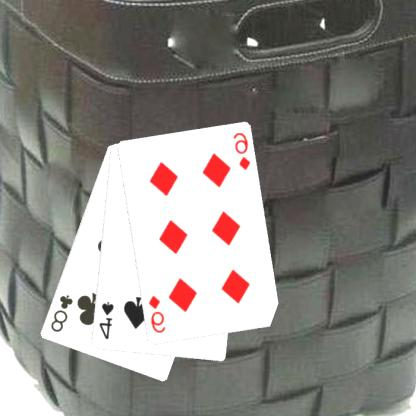4S: (97, 299, 116, 341)
6D: (147, 293, 168, 335), (232, 130, 253, 172)
8C: (49, 292, 76, 334)
